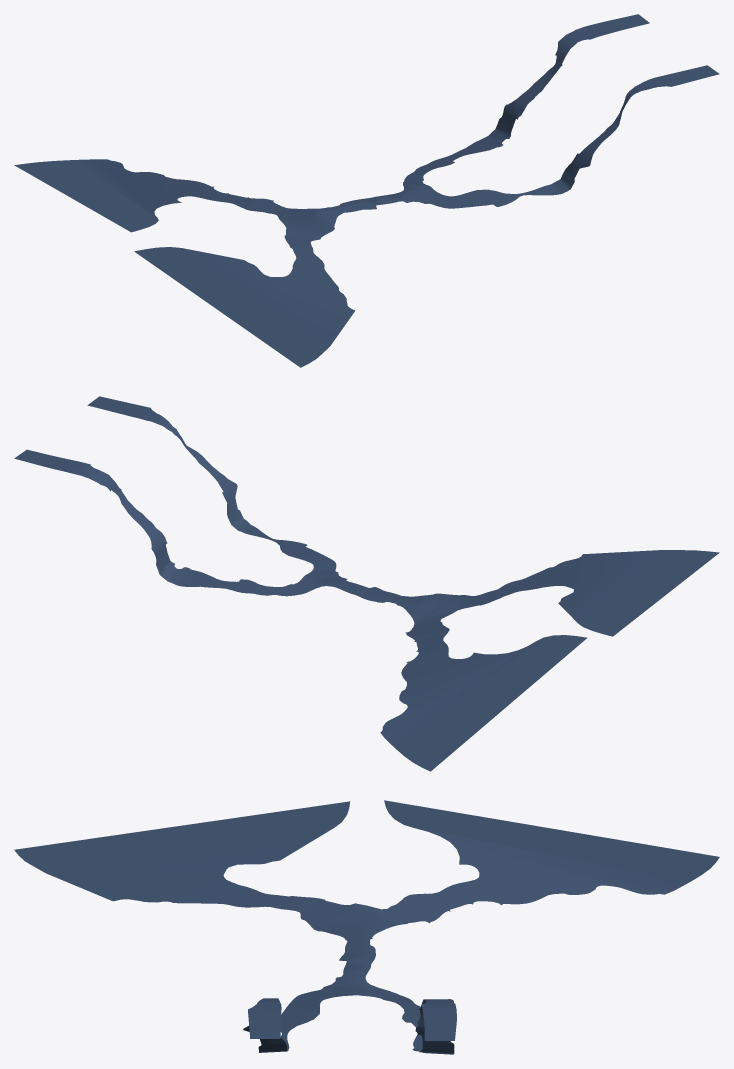
File: v9_level_river2.fbx
3 renders of one model, top to bottom at view 1: azimuth 30°, elevation 25°; view 2: azimuth 150°, elevation 25°; view 3: azimuth 270°, elevation 25°, orthographic. The views are drawn at different scales.
Visible parts, largest first — view 1: river; view 2: river; view 3: river.
Part boxes in pixels (<box>): river: <box>14,14,719,367</box>; river: <box>14,396,719,771</box>; river: <box>14,800,719,1054</box>.
Bounding box in the file's own units: 20594 × 3754 × 18632.
